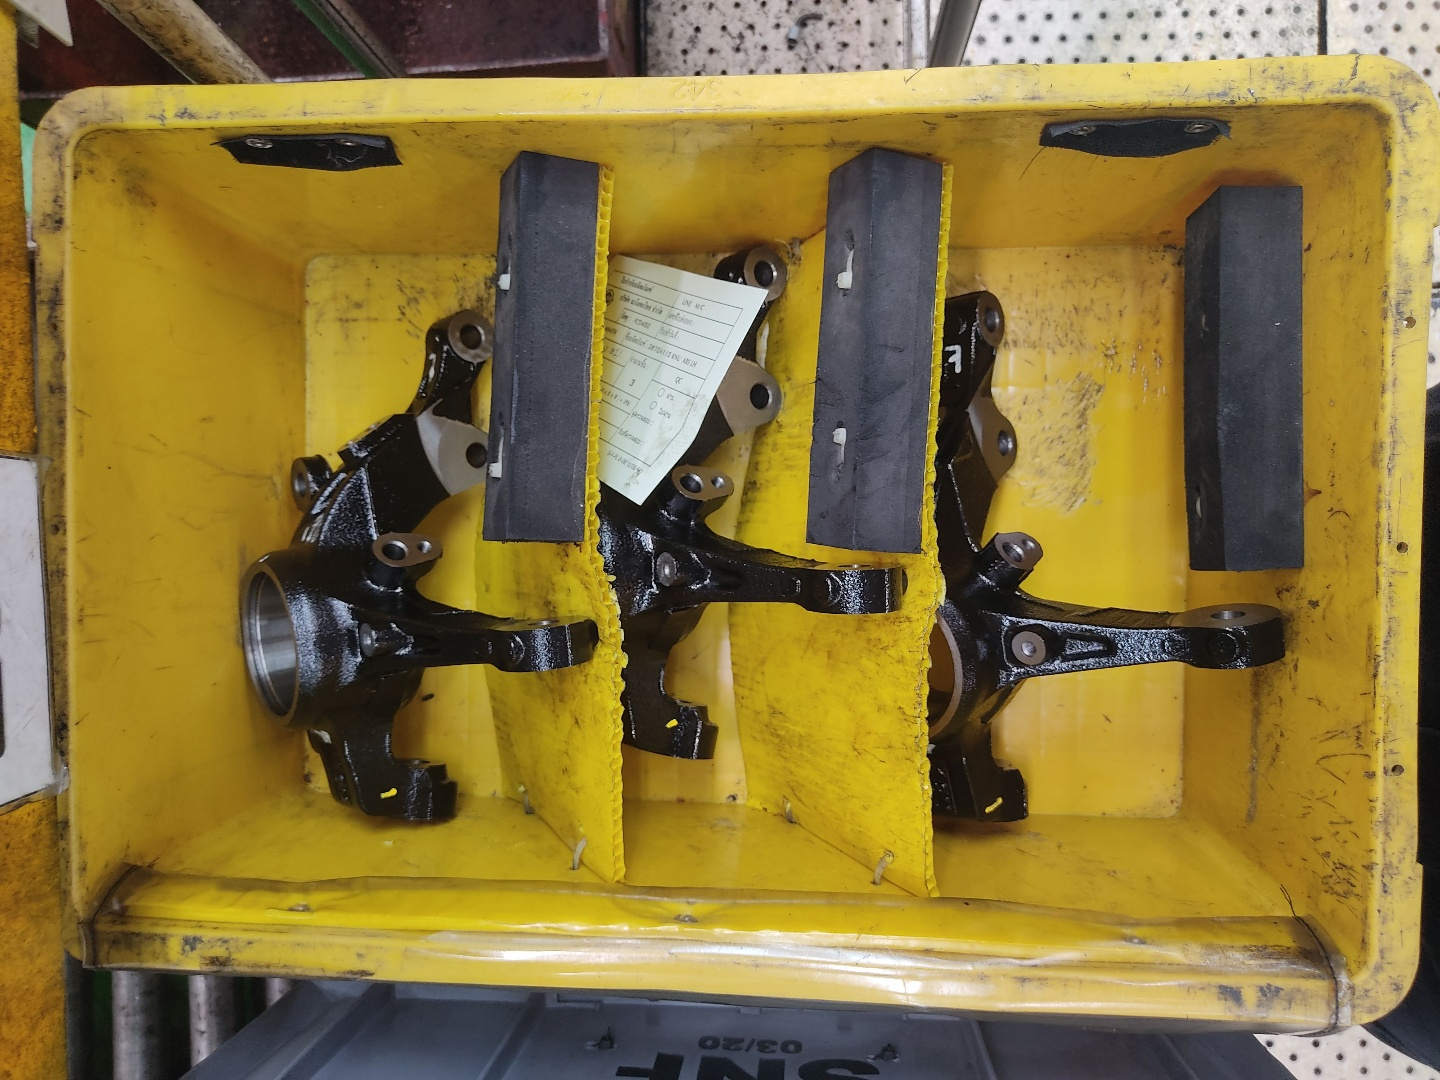abs-lh: (915, 281, 1299, 838), (229, 298, 604, 841), (604, 239, 918, 781)
